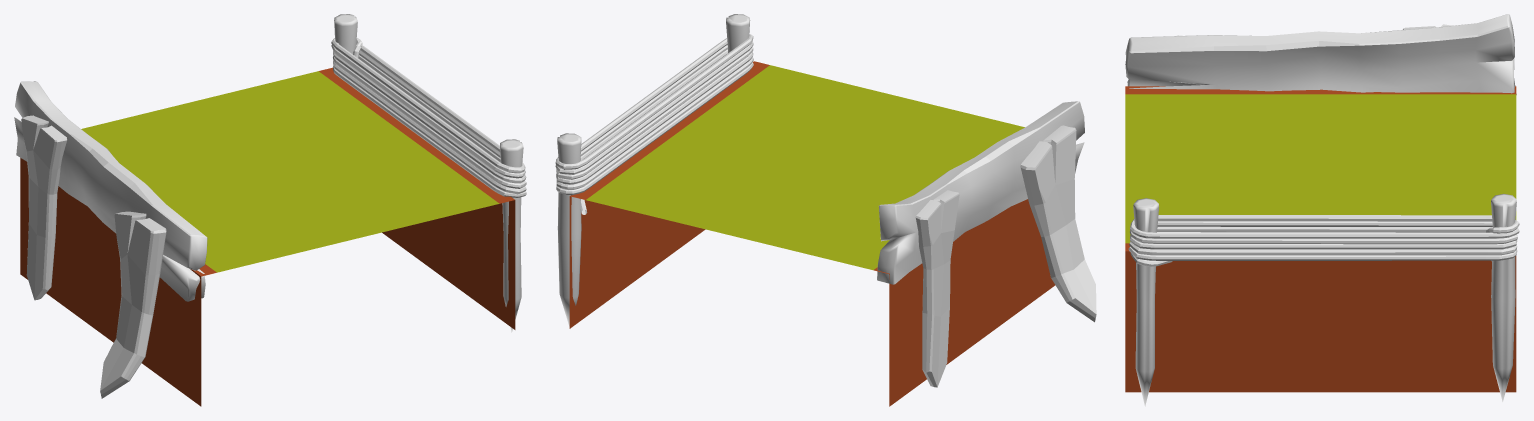
The model's file is Straight_UpH01.fbx.
3 renders of one model, left to right at view 1: azimuth 30°, elevation 25°; view 2: azimuth 150°, elevation 25°; view 3: azimuth 270°, elevation 25°, orthographic. The views are drawn at different scales.
Visible parts, largest first — view 1: Cube.012; view 2: Cube.012; view 3: Cube.012.
Boxes of the visible parts, bbox=[...] form: Cube.012: bbox=[14, 14, 526, 406]; Cube.012: bbox=[555, 14, 1096, 406]; Cube.012: bbox=[1125, 14, 1519, 406].
Size of the model in its own units: 252 by 126 by 202.
